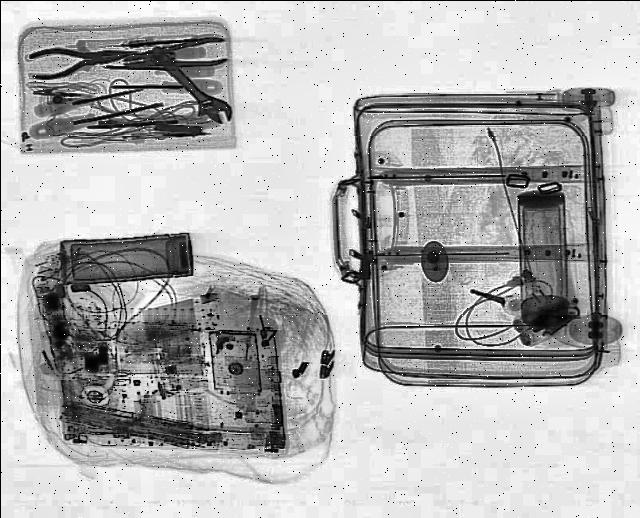Pliers: (22, 37, 138, 83), (118, 35, 228, 77)
Wrench: (137, 42, 237, 130)
